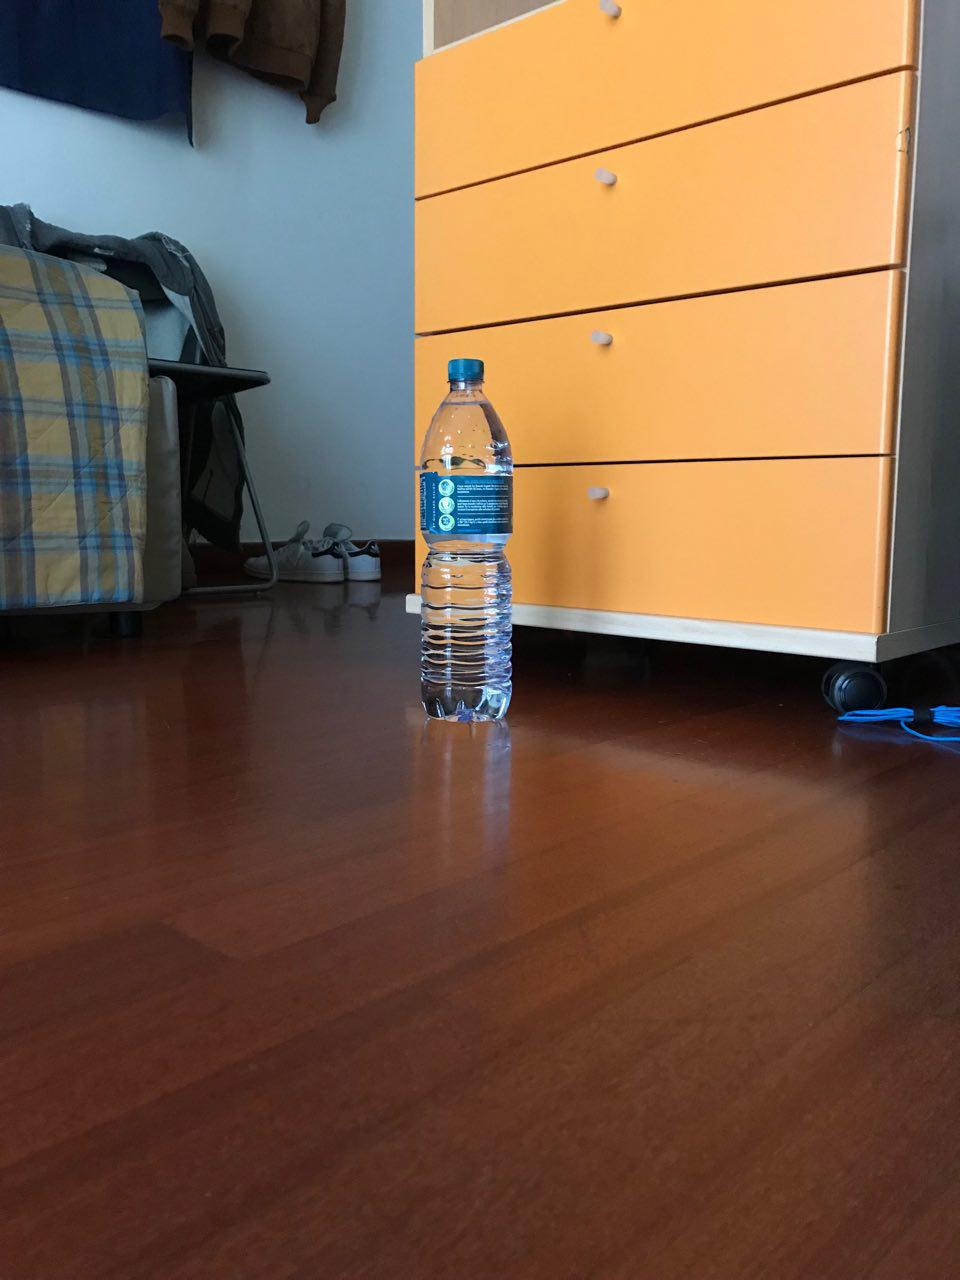san_bernardo: (419, 357, 515, 723)
